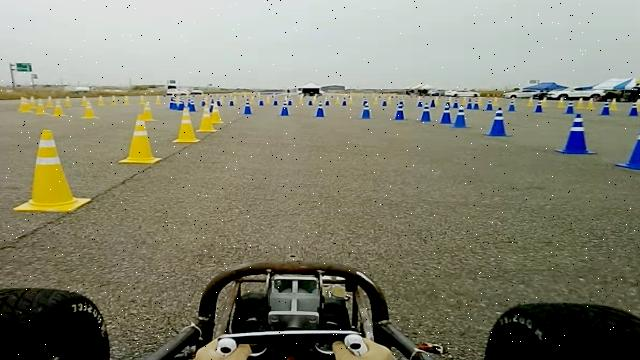blue cone: (554, 112, 598, 154), (615, 118, 640, 170), (484, 107, 513, 136), (452, 102, 473, 127), (420, 100, 432, 122), (360, 96, 372, 118), (439, 105, 452, 124), (394, 102, 405, 120)
yellow cone: (14, 128, 92, 212), (119, 119, 163, 164), (173, 106, 201, 142), (196, 106, 218, 132), (140, 98, 161, 125), (79, 99, 101, 124), (210, 106, 225, 124)
